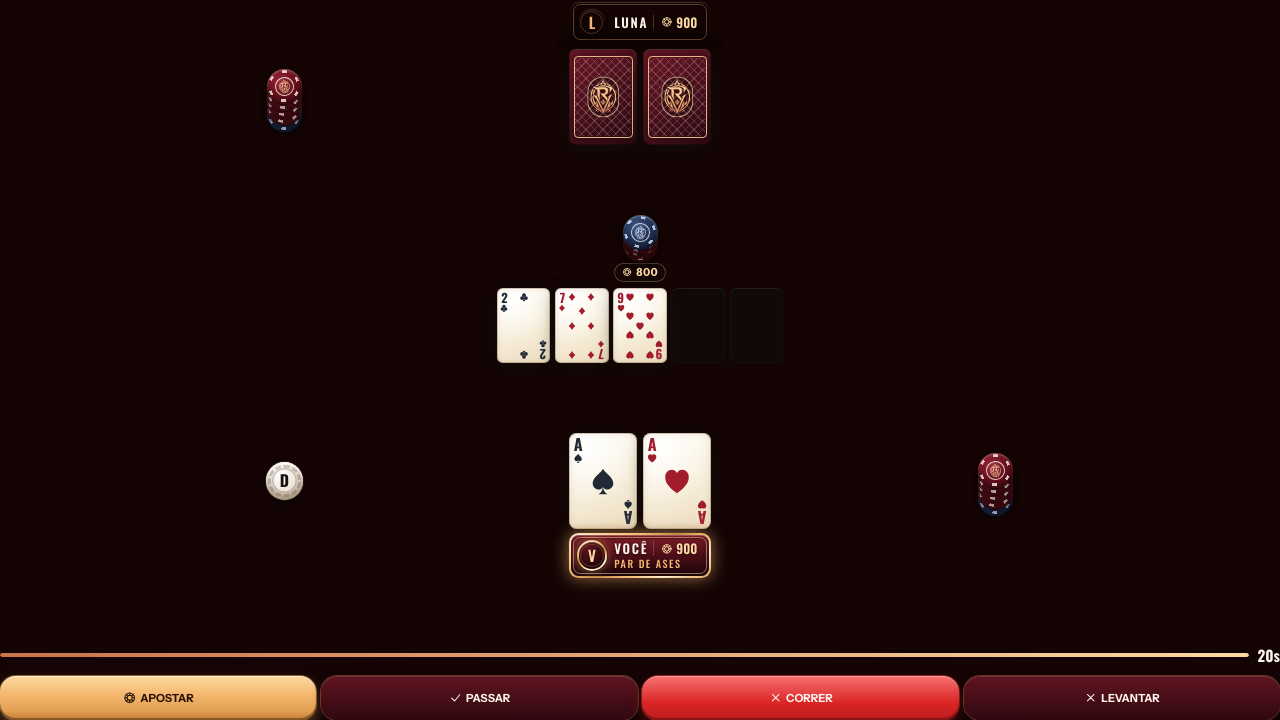
Test case: PokerArena — a barra de apostas › LEVANTAR com a mão viva PERGUNTA antes — não corre nada sozinho
Click the button with test id "leave-table" at (1122, 698), box x1=964 y1=676 x2=1279 y2=719
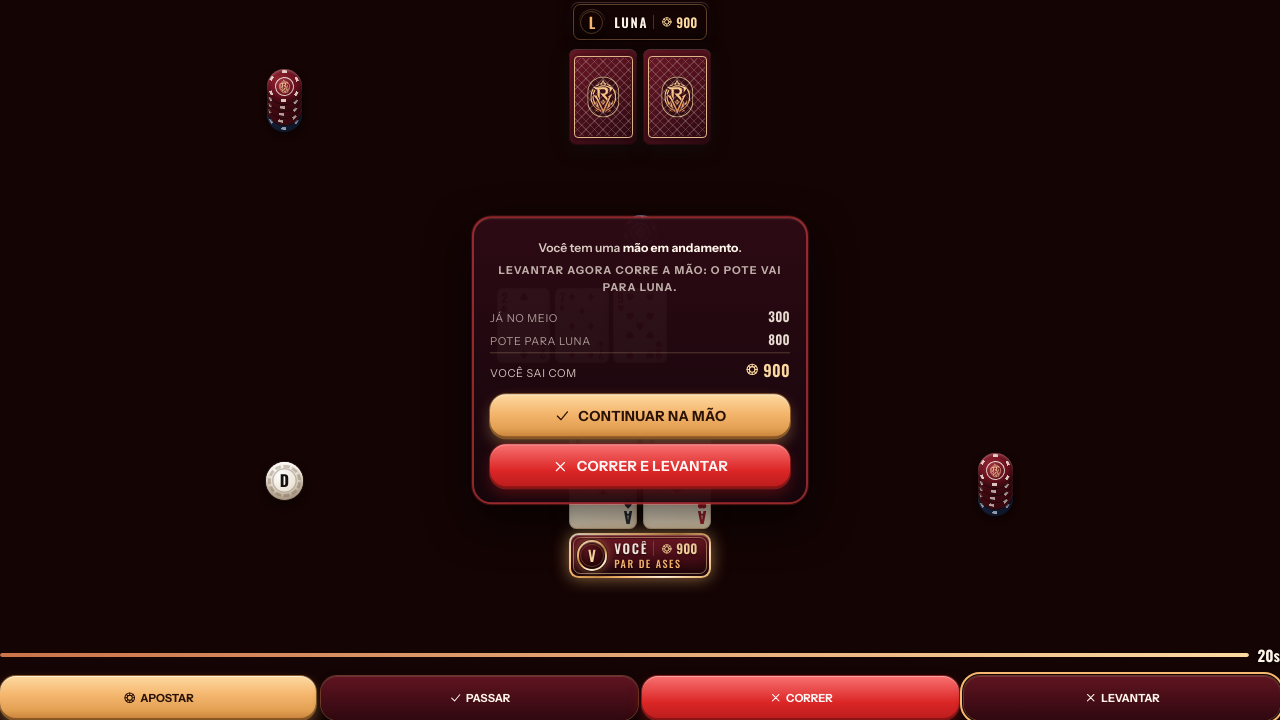
Expected: the dialog with test id "leave-prompt" is shown, x1=472 y1=216 x2=808 y2=504
